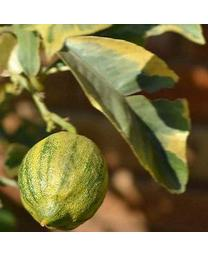lemon: (19, 132, 109, 231)
